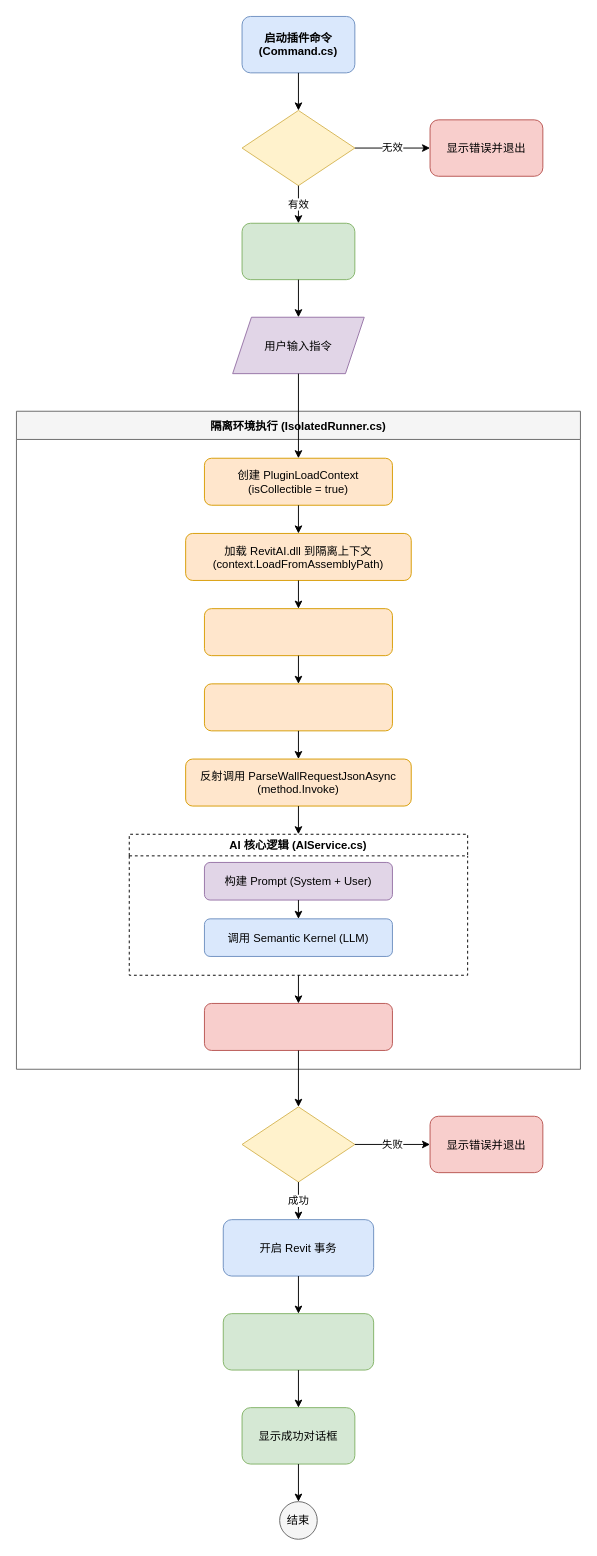
Some shapes in this 597 by 1556 pixel diagram are drawn without their labels. The shapes that lost their labels are listed below. From the top down, each one's centre as x and y in pixels, then its label:
At point (298, 148): "检查 API Key".
At point (298, 251): "显示输入窗口 (InputWindow)".
At point (298, 632): "反射获取 AIService 类型 (isolatedAssembly.GetType)".
At point (298, 707): "反射创建 AIService 实例 (Activator.CreateInstance)".
At point (298, 1026): "卸载上下文 (context.Unload) 释放依赖文件锁定".
At point (298, 1144): "解析 JSON 结果 (Main Context)".
At point (298, 1341): "创建墙体元素 (RevitModelCreator)".
